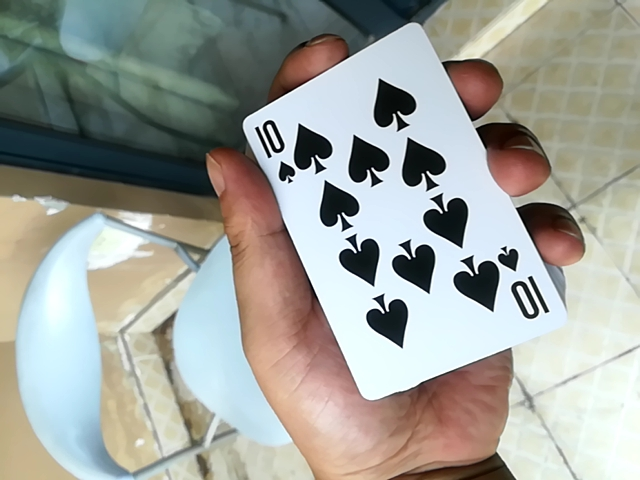ht 10: (226, 28, 563, 396)
